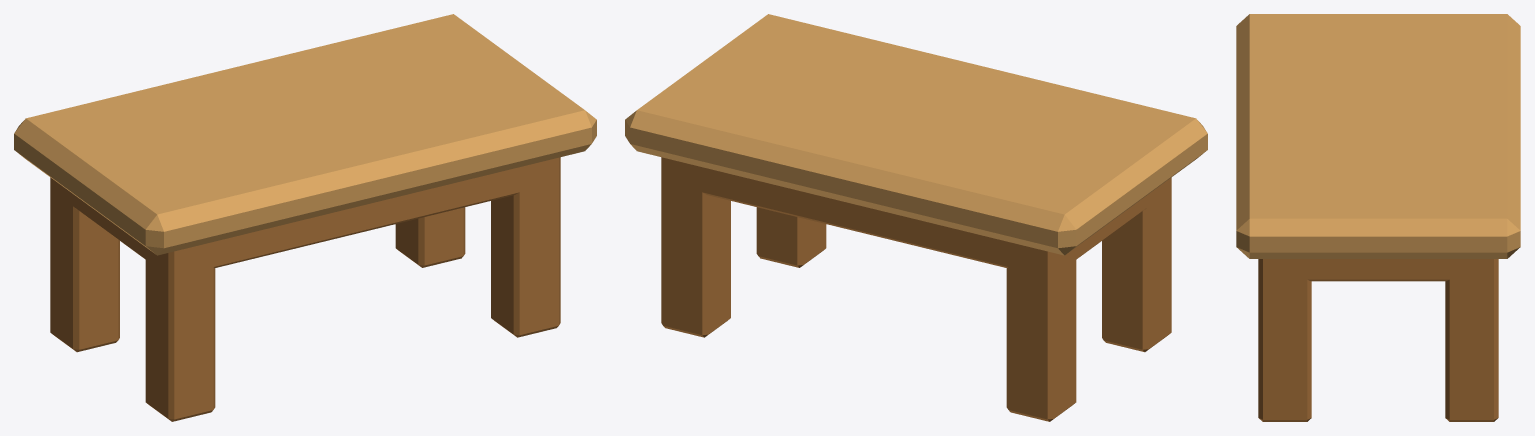
The model's file is CoffeeTable.fbx.
The picture shows the model from 3 angles, left to right: view 1: azimuth 30°, elevation 25°; view 2: azimuth 150°, elevation 25°; view 3: azimuth 270°, elevation 25°; orthographic projection.
Visible parts, largest first — view 1: Body; view 2: Body; view 3: Body.
Boxes of the visible parts, left/top/right/bottom form: Body: left=14, top=14, right=596, bottom=421; Body: left=625, top=14, right=1207, bottom=421; Body: left=1236, top=14, right=1520, bottom=421.
Bounding box in the file's own units: 1.15 × 0.53 × 0.64.
